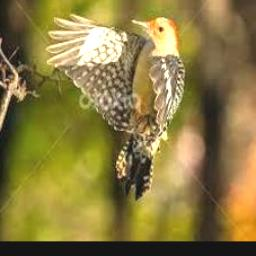Woodpecker: (46, 14, 186, 200)
